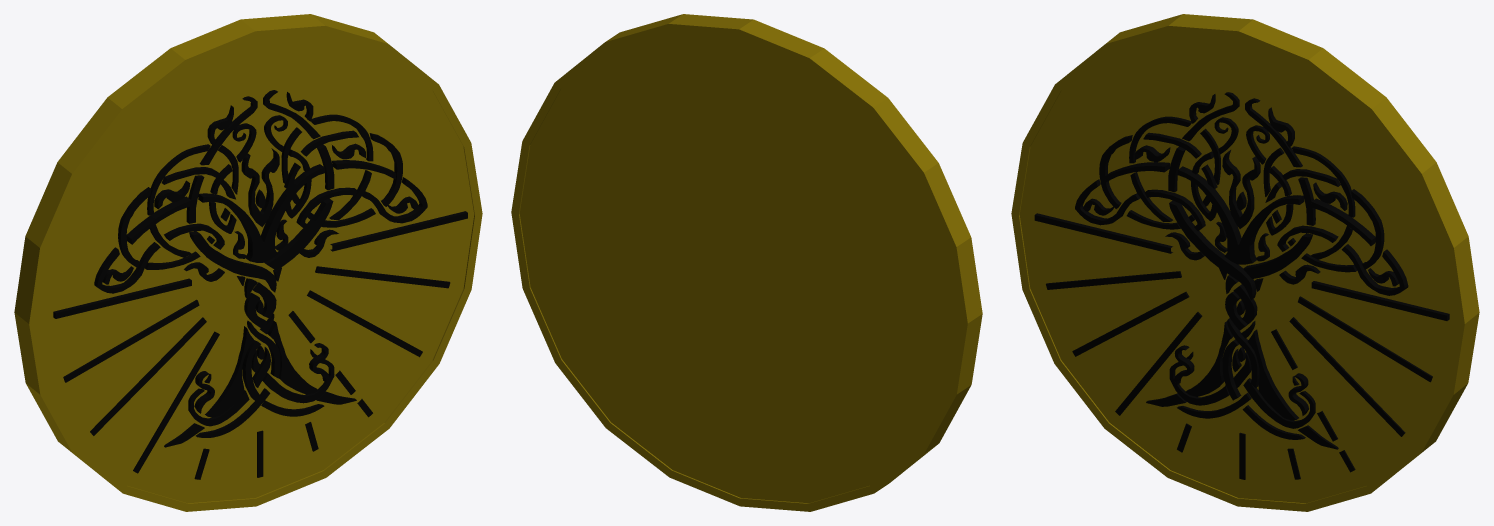
Rendered from coin.fbx.
3 renders of one model, left to right at view 1: azimuth 30°, elevation 25°; view 2: azimuth 150°, elevation 25°; view 3: azimuth 330°, elevation 25°, orthographic.
Parts seen in each view (by area): view 1: pCylinder1, pCube32, pCube80, pCube33, pCube22, pCube21, pCube12, pCube72, pCube71, pCube73, pCube40, pCube76 (+19 smaller); view 2: pCylinder1; view 3: pCylinder1, pCube32, pCube80, pCube21, pCube33, pCube11, pCube76, pCube75, pCube39, pCube71, pCube22, pCube12 (+20 smaller).
Boxes of the visible parts, box(x1,y1,x2,y2) form: pCylinder1: box(14, 14, 482, 511); pCube32: box(198, 164, 324, 262); pCube80: box(53, 211, 467, 318); pCube33: box(241, 148, 279, 227); pCube22: box(264, 198, 333, 270); pCube21: box(189, 231, 276, 292); pCube12: box(205, 326, 253, 417); pCube72: box(90, 317, 206, 435); pCube71: box(63, 299, 199, 382); pCube73: box(133, 331, 219, 473); pCube40: box(94, 242, 160, 293); pCube76: box(315, 266, 450, 288); pCylinder1: box(511, 14, 982, 511); pCylinder1: box(1011, 14, 1479, 511); pCube32: box(1177, 166, 1304, 264); pCube80: box(1034, 213, 1449, 320); pCube21: box(1169, 200, 1256, 300); pCube33: box(1222, 150, 1260, 228); pCube11: box(1247, 329, 1298, 420); pCube76: box(1298, 296, 1432, 382); pCube75: box(1289, 317, 1405, 436); pCube39: box(1341, 244, 1408, 295); pCube71: box(1046, 271, 1181, 289); pCube22: box(1243, 233, 1312, 278); pCube12: box(1185, 321, 1233, 396).
Bounding box in the file's own units: 1.22 × 1.23 × 0.0912.
